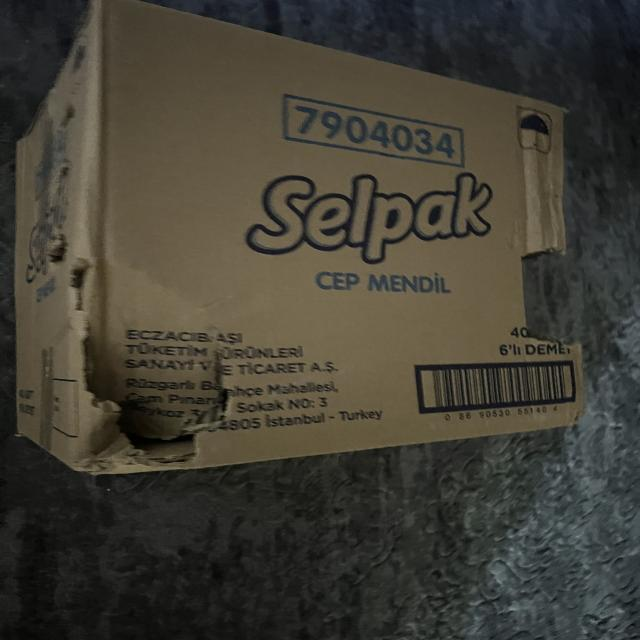damaged: (8, 0, 589, 484), (42, 230, 242, 475), (512, 230, 581, 357)
